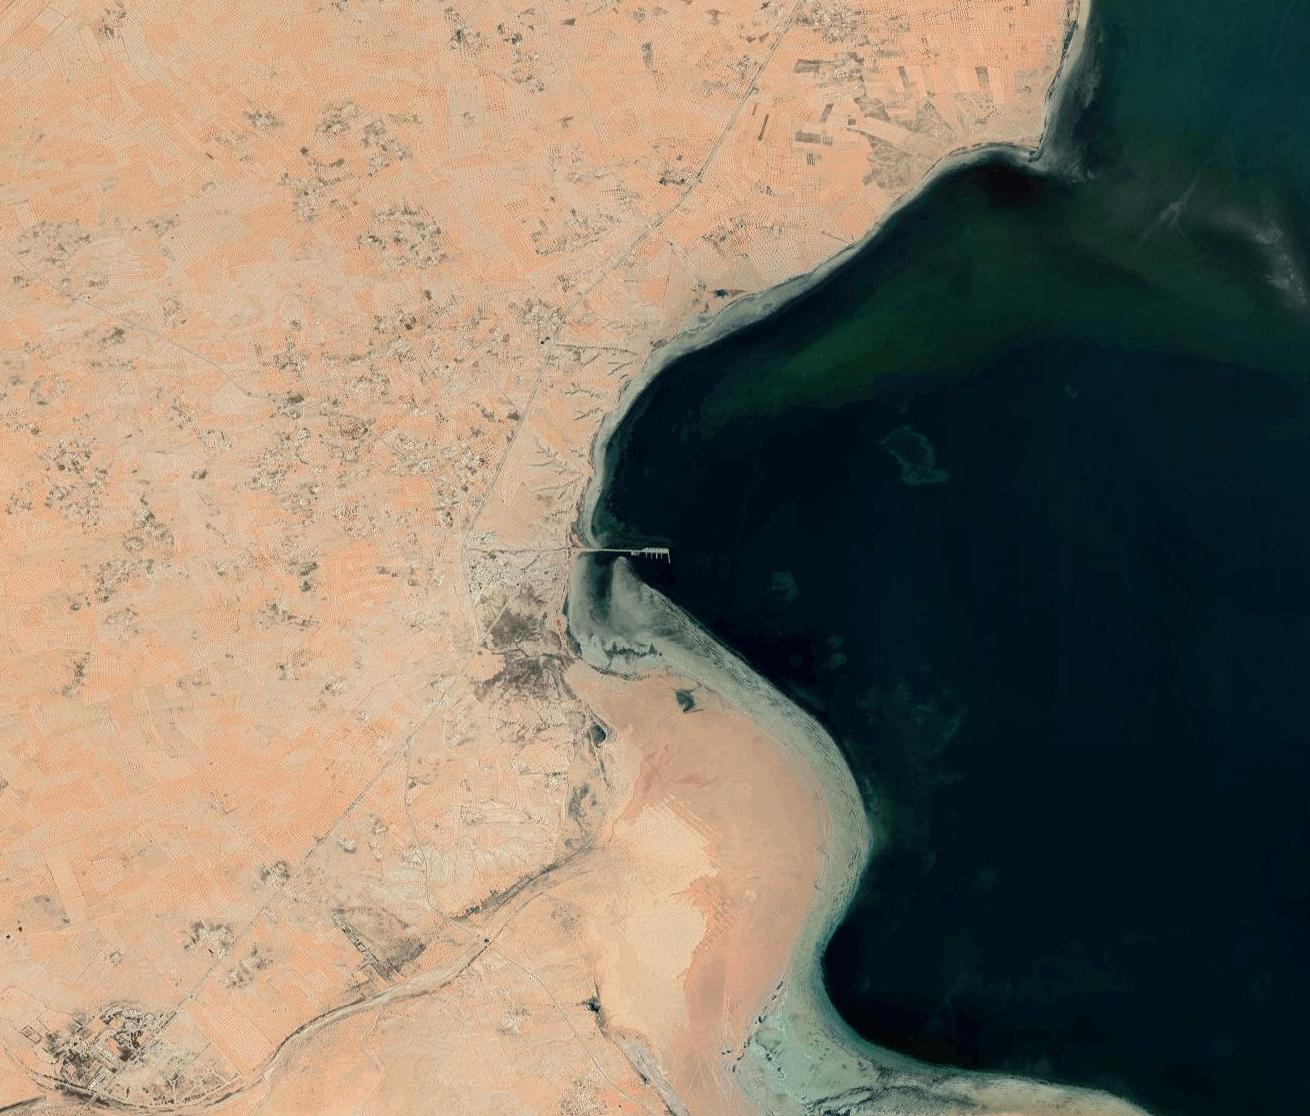harbor: (628, 542, 674, 566)
motorway: (543, 278, 602, 369), (171, 940, 236, 1011), (240, 869, 300, 941), (353, 736, 412, 803), (299, 802, 353, 869), (600, 226, 658, 285), (412, 664, 460, 735), (470, 442, 515, 515), (503, 368, 546, 442), (657, 168, 703, 229), (462, 590, 487, 665), (705, 110, 739, 167), (735, 54, 769, 111), (455, 516, 479, 591), (773, 1, 800, 52)
